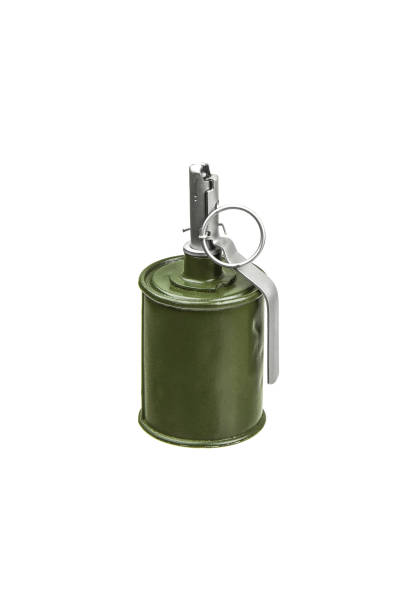e1: (131, 164, 280, 445)
